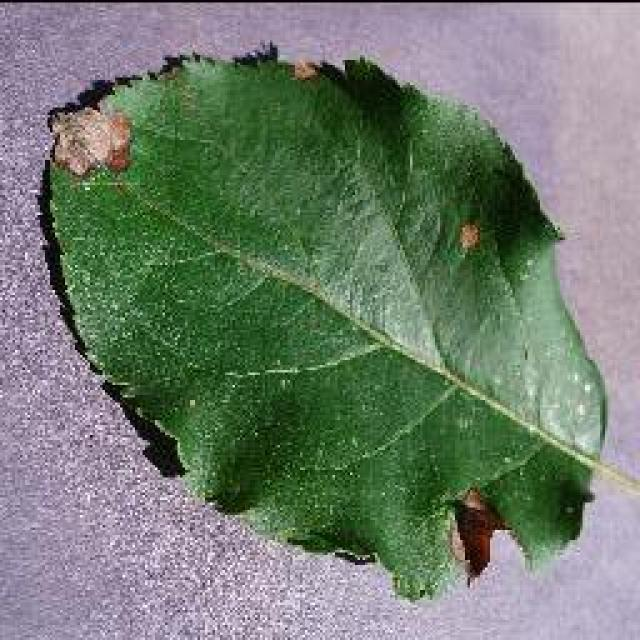apple black rot: (35, 40, 610, 600)
